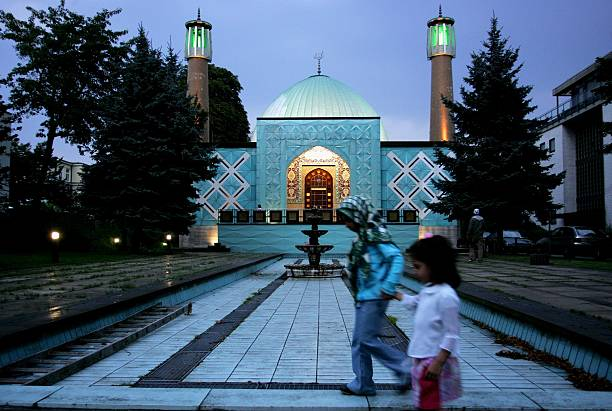terrorist: (309, 181, 409, 392)
